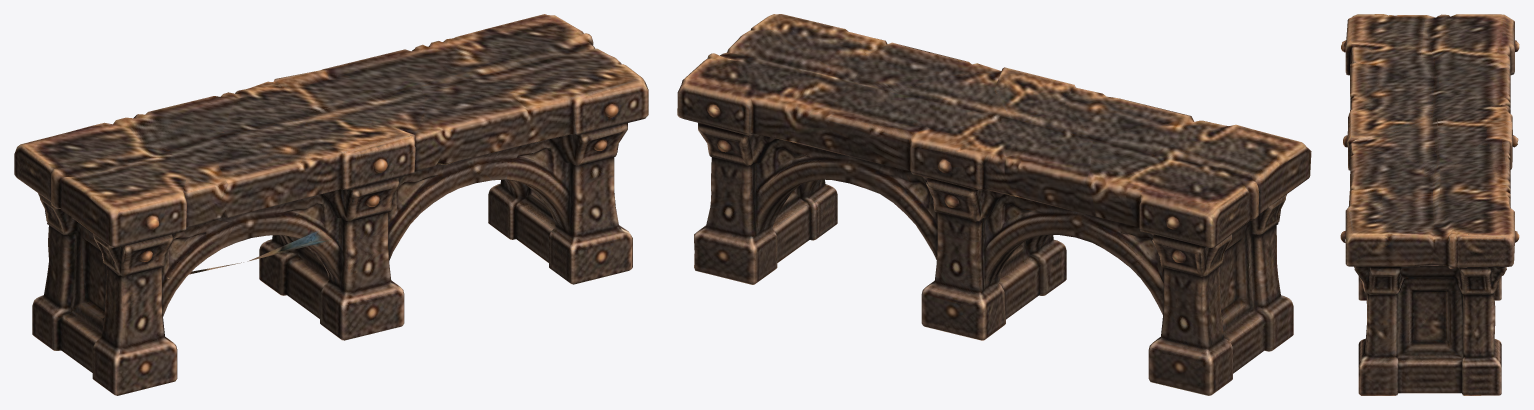
The model's file is bench_b.glb.
3 renders of one model, left to right at view 1: azimuth 30°, elevation 25°; view 2: azimuth 150°, elevation 25°; view 3: azimuth 270°, elevation 25°, orthographic. The views are drawn at different scales.
Visible parts, largest first — view 1: Mesh_0; view 2: Mesh_0; view 3: Mesh_0.
Boxes of the visible parts, x1,y1,x2,y2 form: Mesh_0: [14, 14, 648, 395]; Mesh_0: [677, 14, 1311, 395]; Mesh_0: [1340, 14, 1519, 395].
Size of the model in its own units: 0.9575 by 0.3257 by 0.3203.
Materials: 1 (1 with a texture image).
